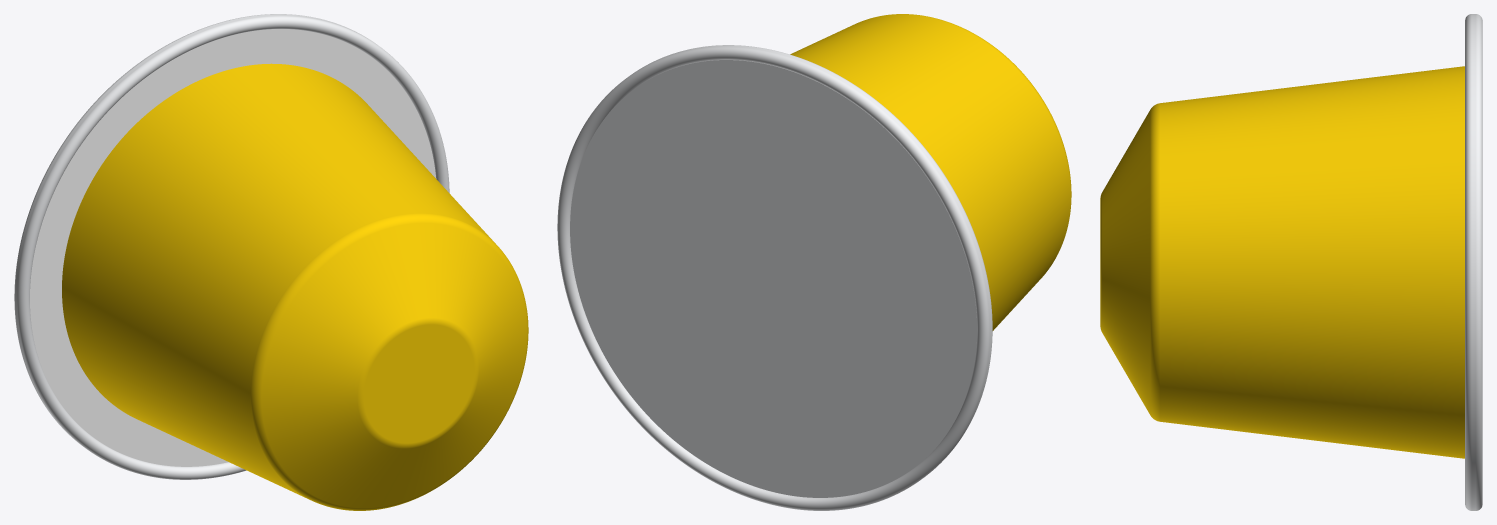
The model's file is Gold Capsule.glb.
The picture shows the model from 3 angles, left to right: view 1: azimuth 30°, elevation 25°; view 2: azimuth 150°, elevation 25°; view 3: azimuth 270°, elevation 25°; orthographic projection.
Visible parts, largest first — view 1: Капсула; view 2: Капсула; view 3: Капсула.
Part boxes in pixels (x1=…): Капсула: x1=14, y1=14, x2=528, y2=510; Капсула: x1=557, y1=14, x2=1071, y2=510; Капсула: x1=1100, y1=14, x2=1482, y2=510.
Bounding box in the file's own units: 0.037 × 0.037 × 0.0284.
